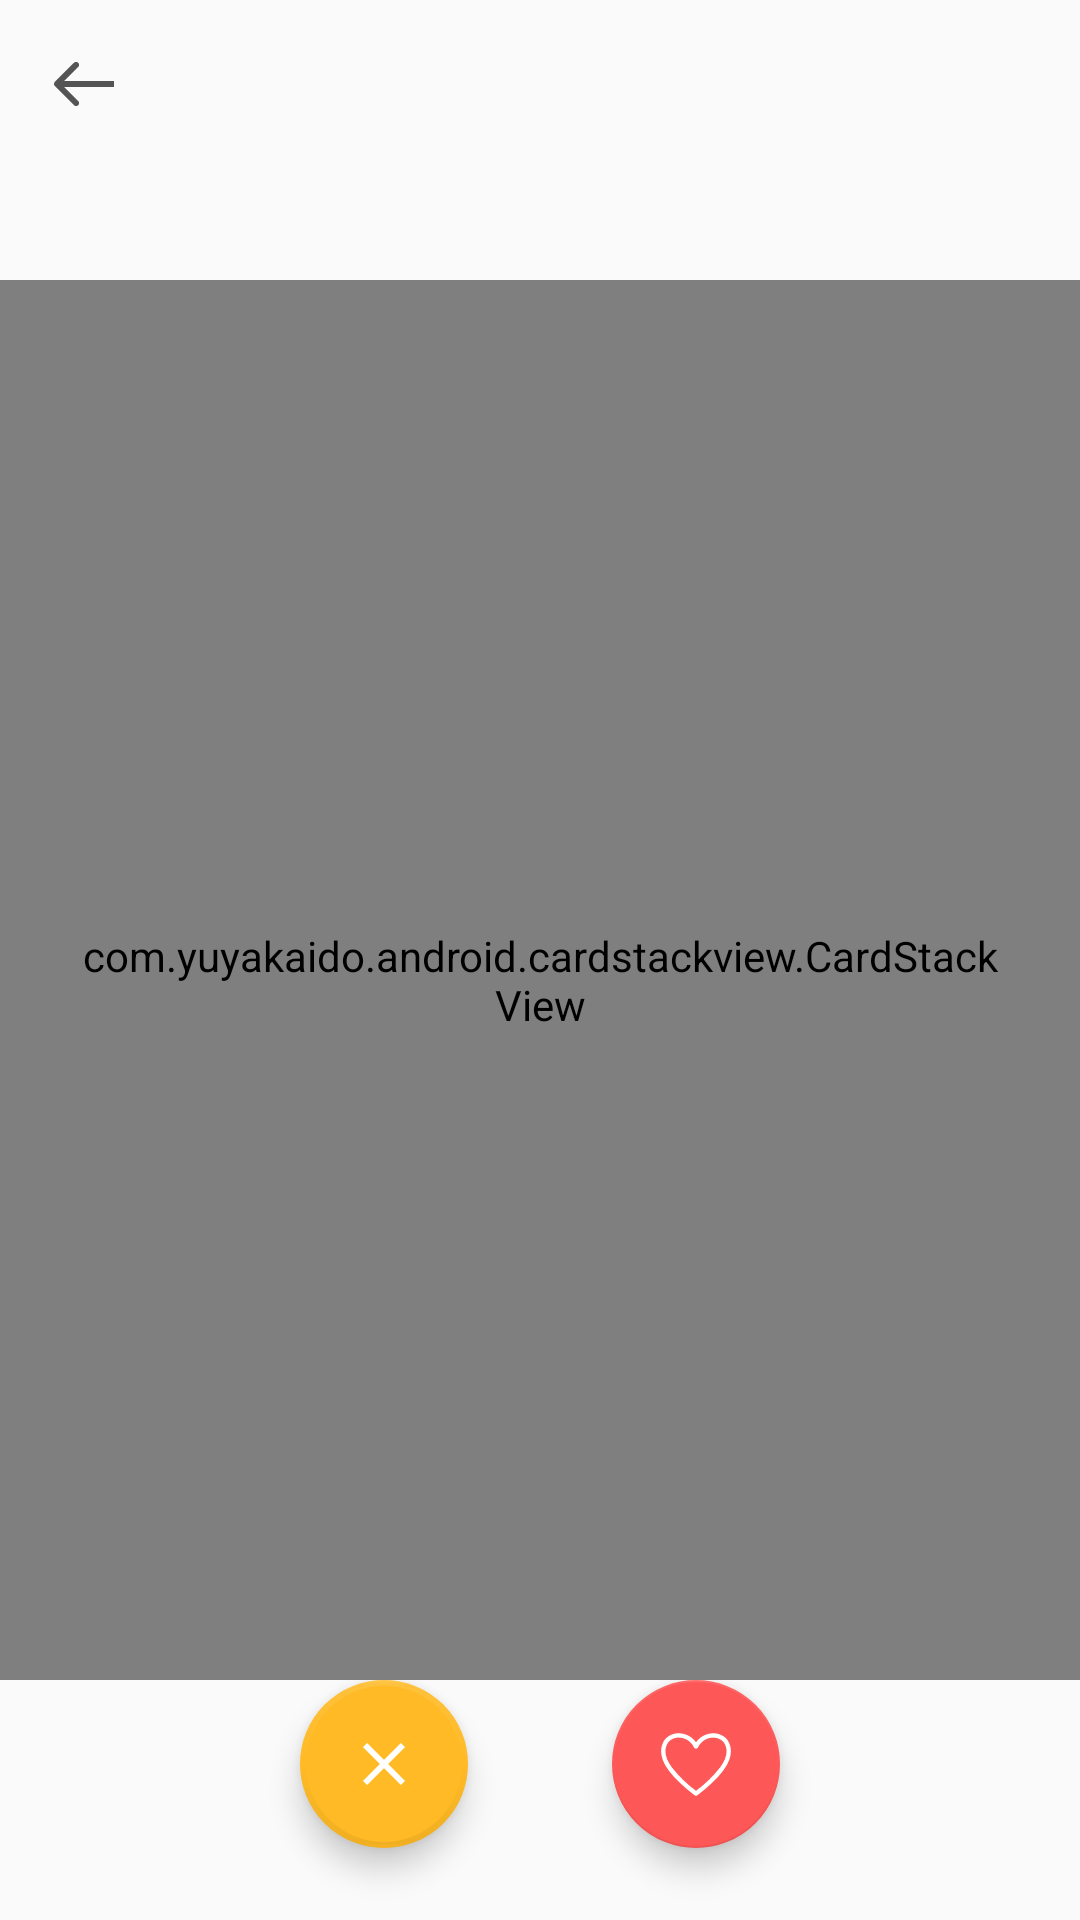

Named icons in this screenshot (1080px×1920px) and their centers, (x=x, y=y):
Like: (x=696, y=1764)
Skip: (x=384, y=1764)
